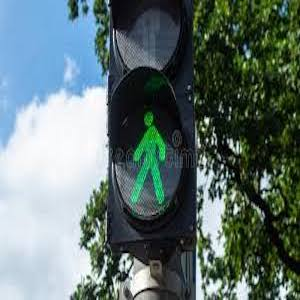green: (116, 109, 176, 211)
